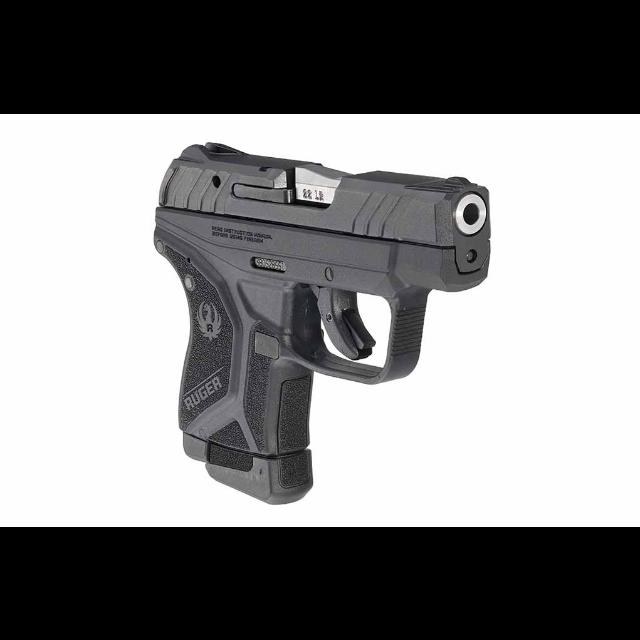handgun: (147, 136, 496, 508)
